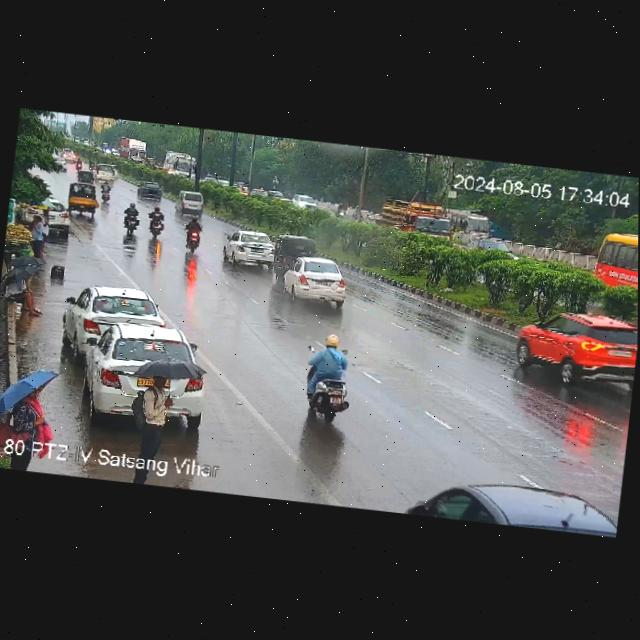bus: (588, 219, 638, 295), (449, 210, 494, 238)
car: (390, 468, 614, 537), (512, 300, 638, 391), (79, 321, 199, 408), (65, 282, 163, 351), (274, 253, 350, 310), (221, 228, 283, 273), (27, 196, 73, 240), (273, 234, 315, 275), (66, 183, 104, 217), (173, 190, 207, 219), (91, 162, 121, 184), (135, 179, 164, 200)
motorcycle: (298, 333, 360, 427), (181, 214, 206, 254), (143, 204, 169, 237), (122, 201, 144, 237)
person: (129, 357, 175, 457), (14, 382, 54, 442), (6, 251, 48, 303), (29, 214, 47, 257), (39, 206, 54, 241)
truck: (370, 200, 457, 243)
